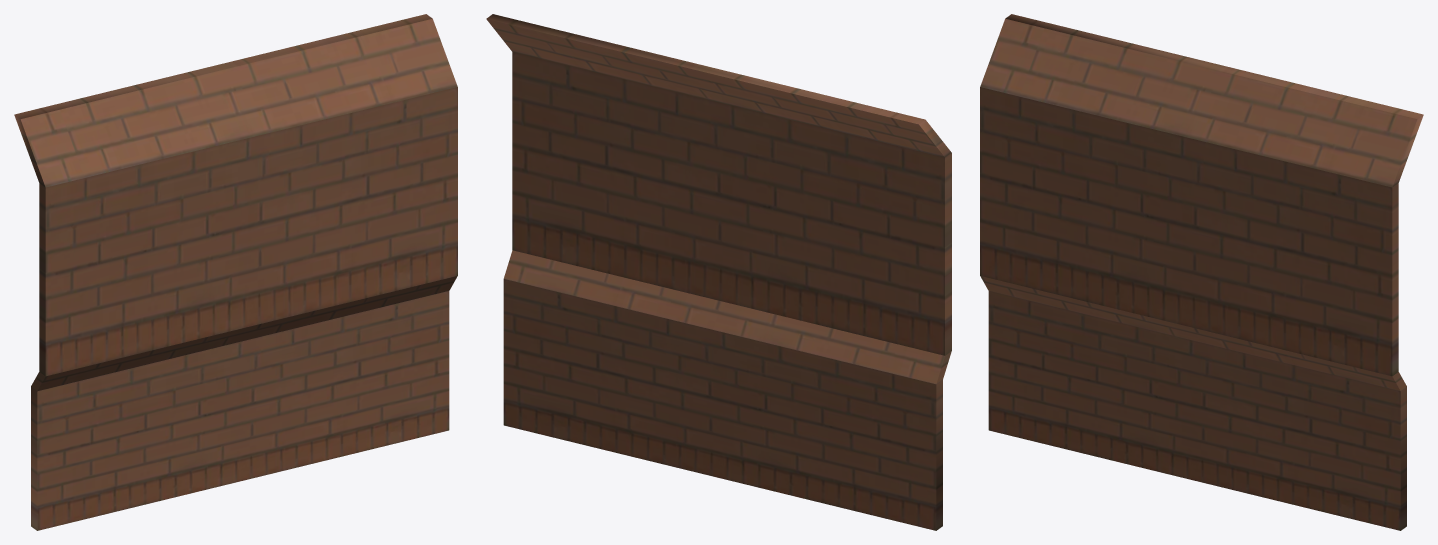
File: pm-exterior-wall.glb
The picture shows the model from 3 angles, left to right: view 1: azimuth 30°, elevation 25°; view 2: azimuth 150°, elevation 25°; view 3: azimuth 330°, elevation 25°; orthographic projection. The views are drawn at different scales.
Visible parts, largest first — view 1: ExteriorWall; view 2: ExteriorWall; view 3: ExteriorWall.
Boxes of the visible parts, left/top/right/bottom form: ExteriorWall: left=14, top=14, right=457, bottom=530; ExteriorWall: left=486, top=14, right=951, bottom=530; ExteriorWall: left=980, top=14, right=1423, bottom=530.
Size of the model in its own units: 6.32 by 5.85 by 0.8359.
1 material, 1 textured.
